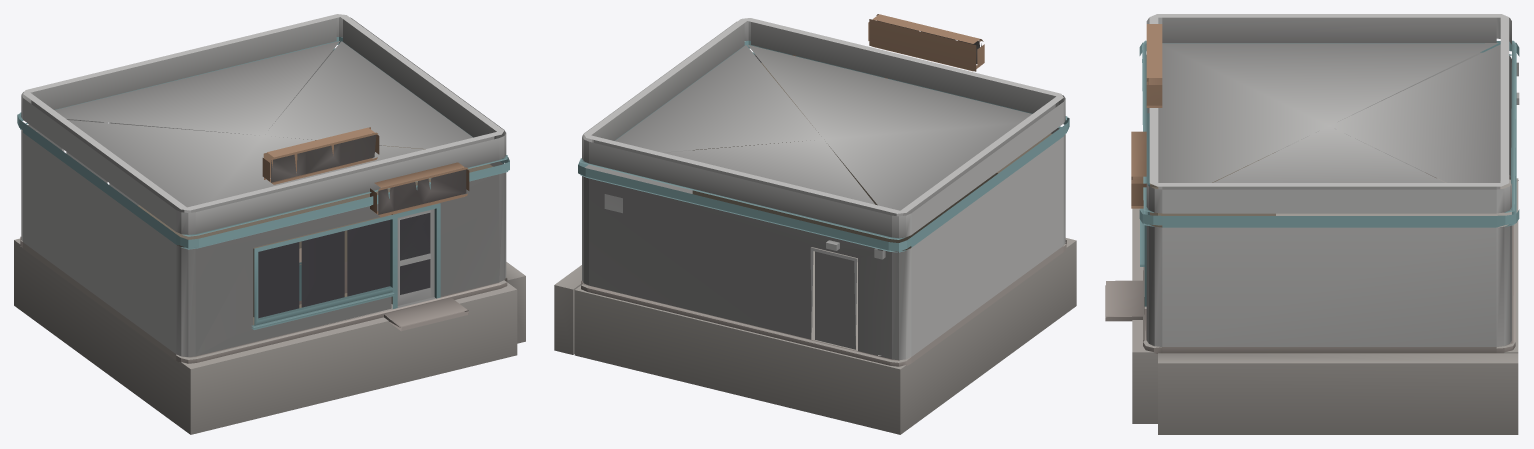
Rendered from motel.lod.glb.
The picture shows the model from 3 angles, left to right: view 1: azimuth 30°, elevation 25°; view 2: azimuth 150°, elevation 25°; view 3: azimuth 270°, elevation 25°; orthographic projection. The views are drawn at different scales.
Parts seen in each view (by area): view 1: motel; view 2: motel; view 3: motel.
Boxes of the visible parts, x1=… form: motel: x1=14, y1=14, x2=525, y2=434; motel: x1=554, y1=14, x2=1076, y2=434; motel: x1=1105, y1=14, x2=1519, y2=434.
Bounding box in the file's own units: 8.48 × 5.84 × 8.01.
